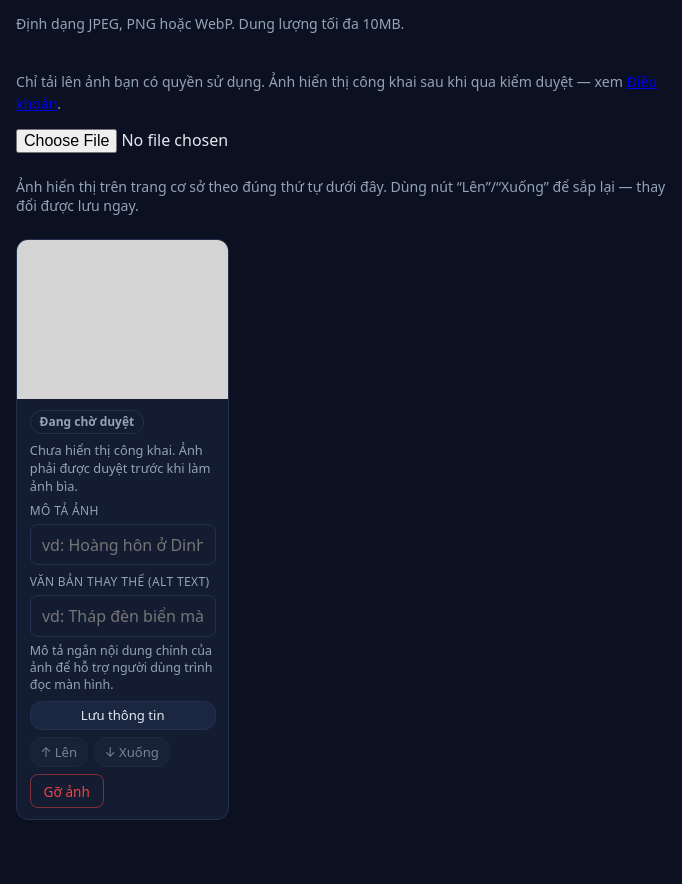
Test: PhotosView — sửa mô tả ảnh (caption/alt_text) › API trả 400 (quá dài) -> hiện thông điệp lỗi từ server, KHÔNG báo thành công
(page scrolled)
Expected: the field labelled "Mô tả ảnh" is shown, x1=30 y1=524 x2=216 y2=565
Click the button "Lưu thông tin". click: (123, 715)
box: x1=30 y1=701 x2=216 y2=730
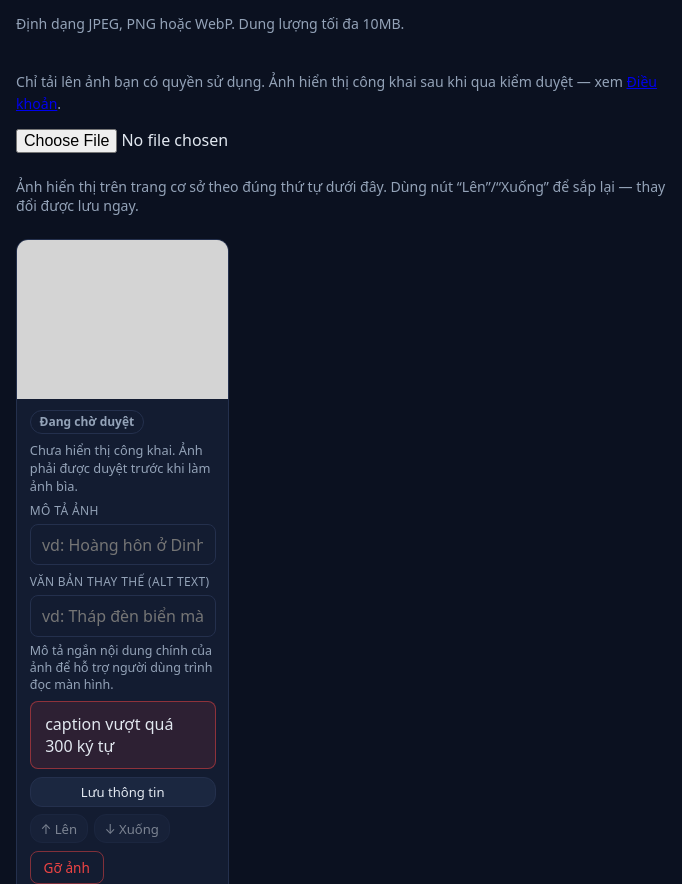
Result: the message reads "caption vượt quá 300 ký tự" at x1=45 y1=713 x2=173 y2=757
